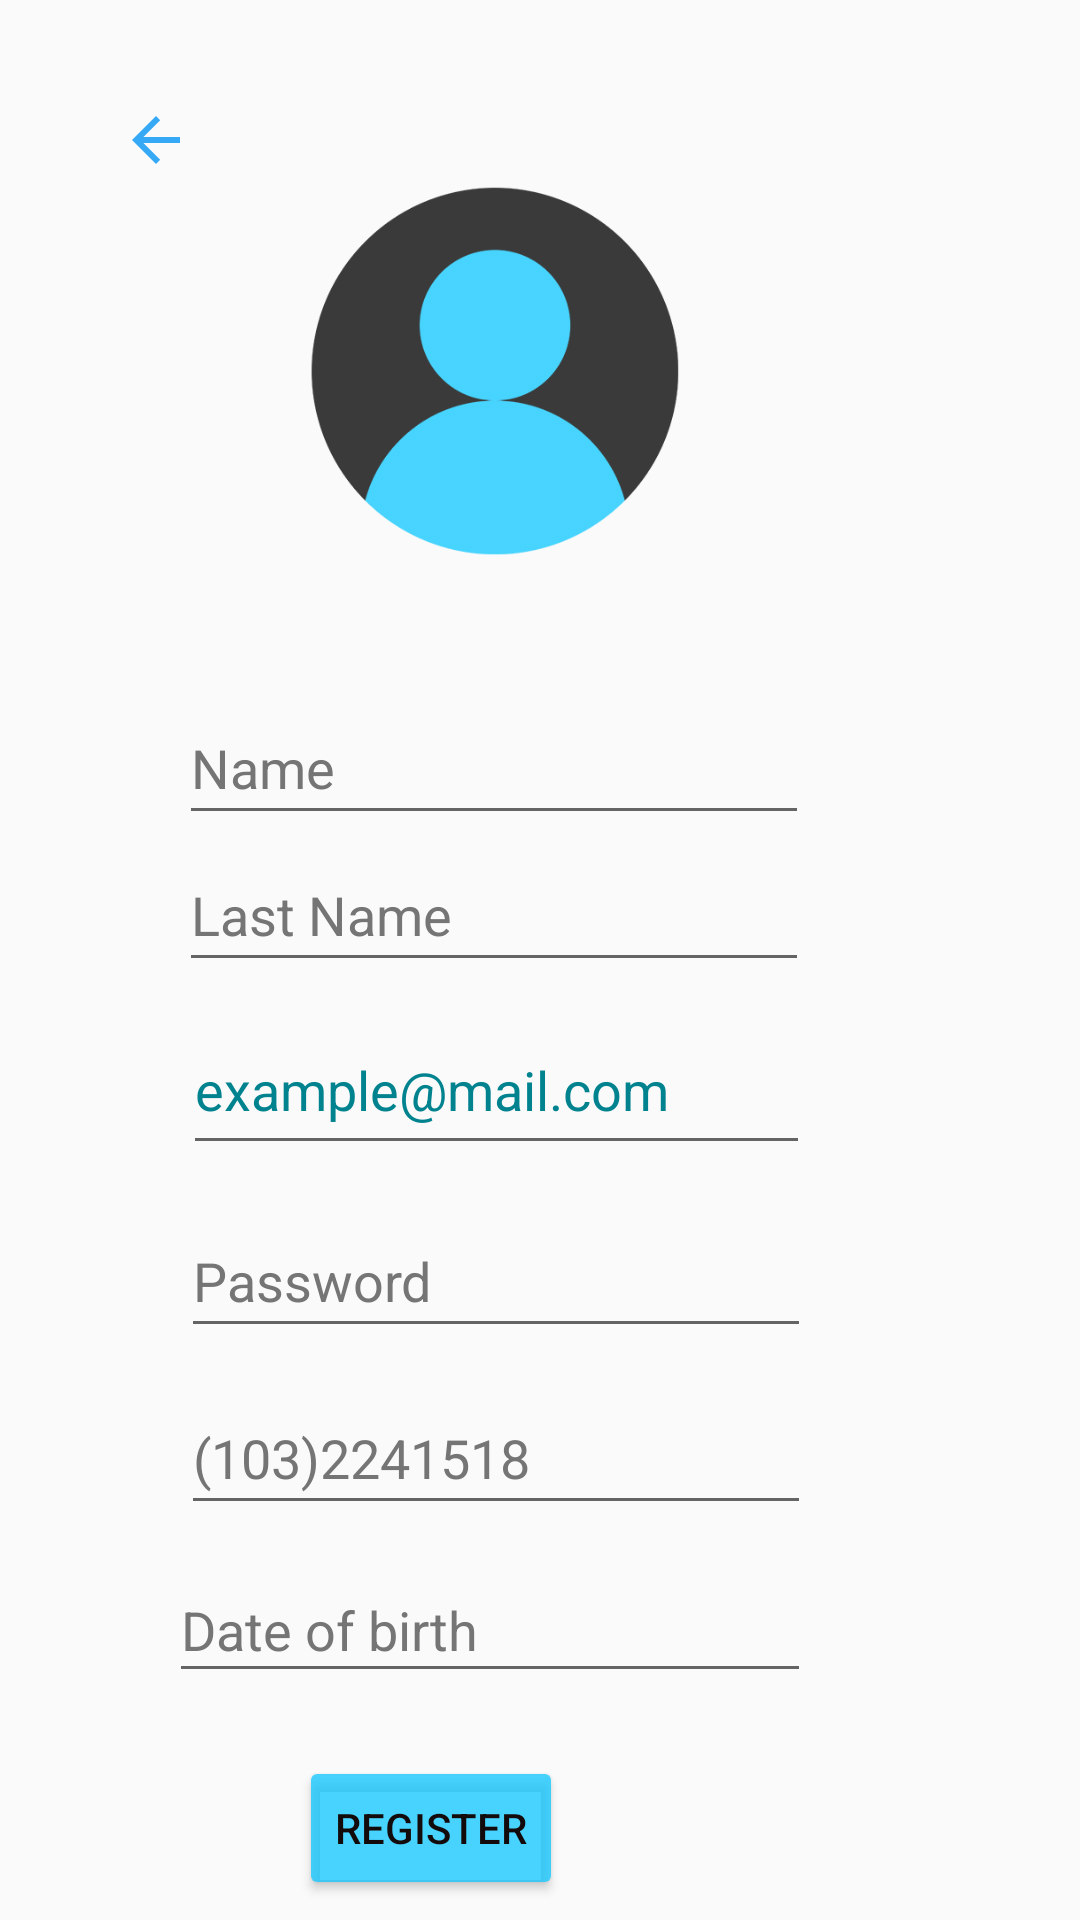

Named icons in this screenshot (1080*1920) and their centers, point (x, y):
back: point (156, 140)
